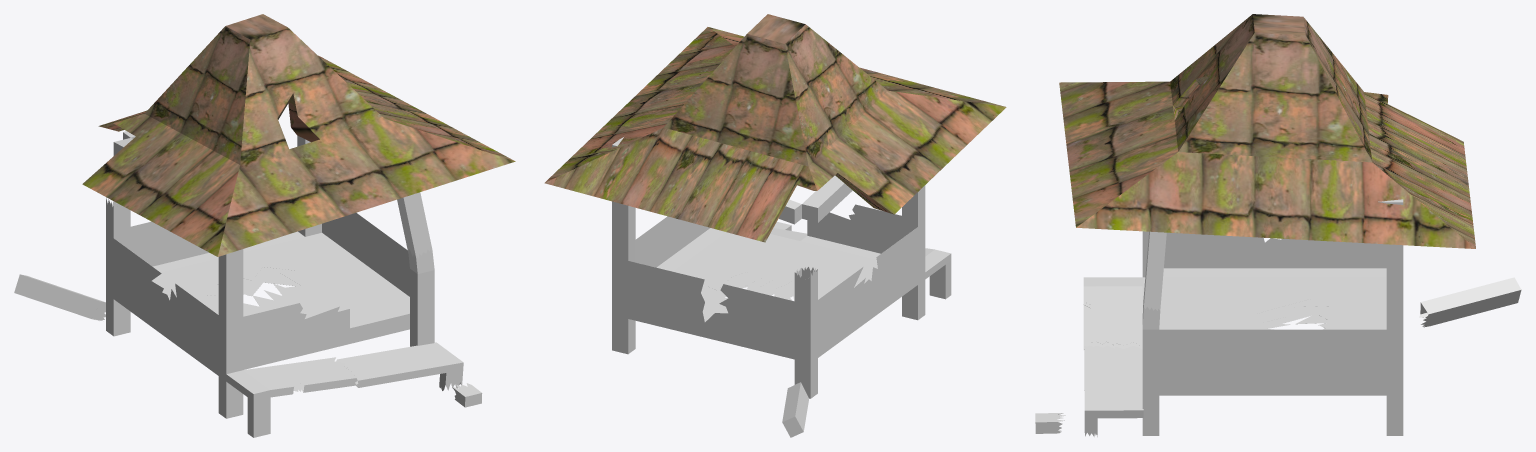
Rendered from Pendopo.fbx.
3 views of the same model, side by side, from view 1: azimuth 30°, elevation 25°; view 2: azimuth 150°, elevation 25°; view 3: azimuth 270°, elevation 25° (orthographic). The views are drawn at different scales.
Visible parts, largest first — view 1: Cube.007; view 2: Cube.007; view 3: Cube.007.
Part boxes in pixels (bbox=[...]): Cube.007: bbox=[14, 14, 515, 437]; Cube.007: bbox=[544, 14, 1006, 437]; Cube.007: bbox=[1035, 14, 1521, 436].
Size of the model in its own units: 5373 by 5371 by 6626.
